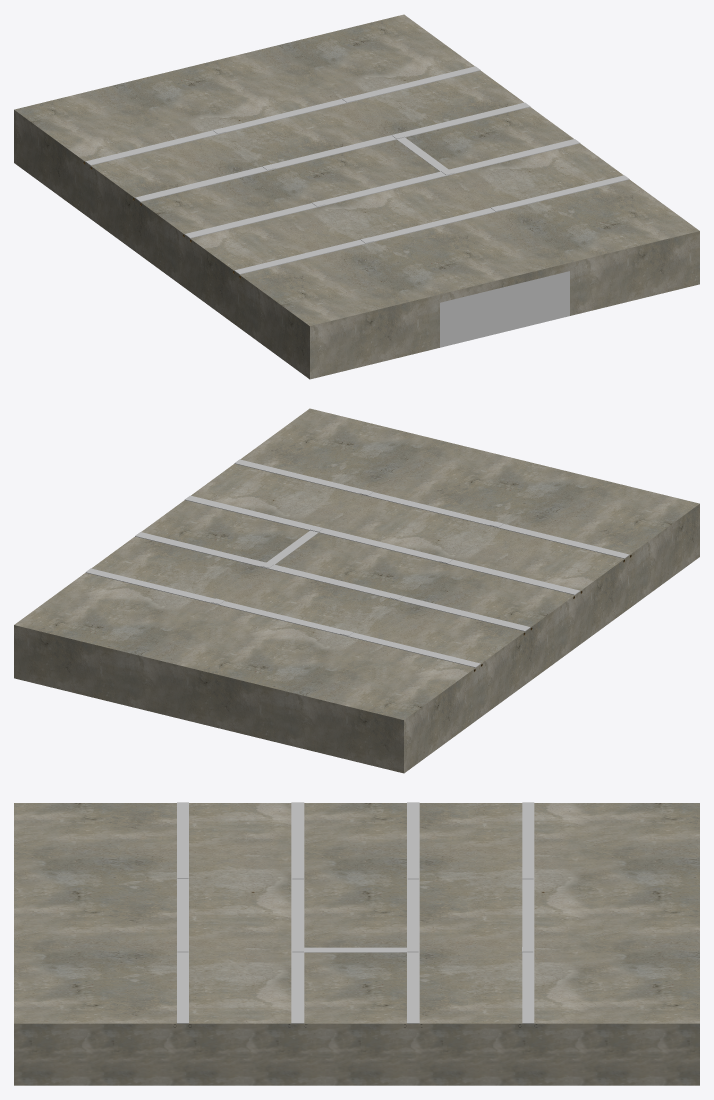
The model's file is old room 1.obj.
3 views of the same model, one above another, from view 1: azimuth 30°, elevation 25°; view 2: azimuth 150°, elevation 25°; view 3: azimuth 270°, elevation 25° (orthographic). The views are drawn at different scales.
Visible parts, largest first — view 1: Cube.009, Cube.004, Cube.010, Cube.012, Cube.011, Cube.013; view 2: Cube.009, Cube.012, Cube.010, Cube.013, Cube.011; view 3: Cube.009, Cube.010, Cube.012, Cube.013, Cube.011, Cube.015.
Boxes of the visible parts, box(x1,y1,x2,y2) form: Cube.009: box(14, 14, 699, 379); Cube.004: box(440, 271, 569, 347); Cube.010: box(184, 139, 579, 238); Cube.012: box(135, 102, 530, 201); Cube.011: box(234, 175, 629, 274); Cube.013: box(85, 66, 480, 165); Cube.009: box(14, 408, 699, 773); Cube.012: box(135, 532, 530, 631); Cube.010: box(184, 495, 579, 595); Cube.013: box(85, 568, 480, 667); Cube.011: box(234, 459, 629, 558); Cube.009: box(14, 803, 699, 1085); Cube.010: box(291, 802, 304, 1023); Cube.012: box(407, 802, 419, 1023); Cube.013: box(522, 802, 534, 1023); Cube.011: box(177, 802, 188, 1023); Cube.015: box(304, 947, 406, 952).
Bounding box in the file's own units: 91.11 × 12.28 × 119.
